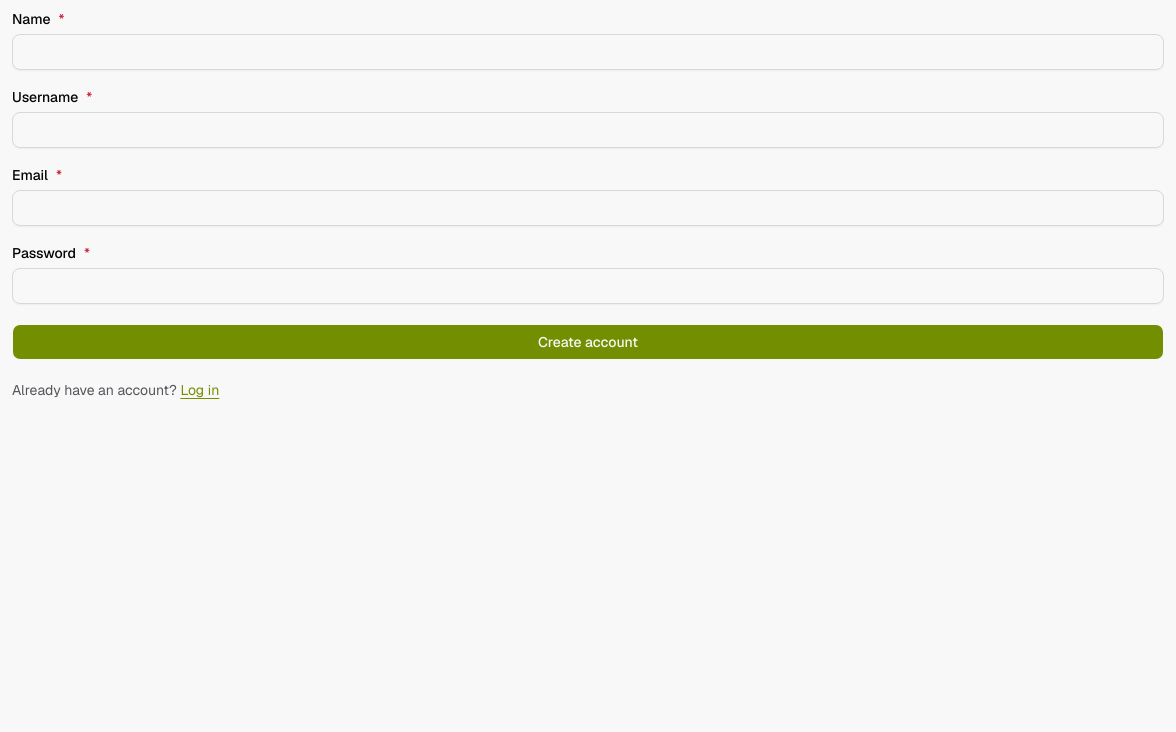
Scenario: SignUpForm › validates every field before submitting
The width and height of the screenshot is (1176, 732).
Click the button "Create account" at (588,342), box [12,324,1164,360]
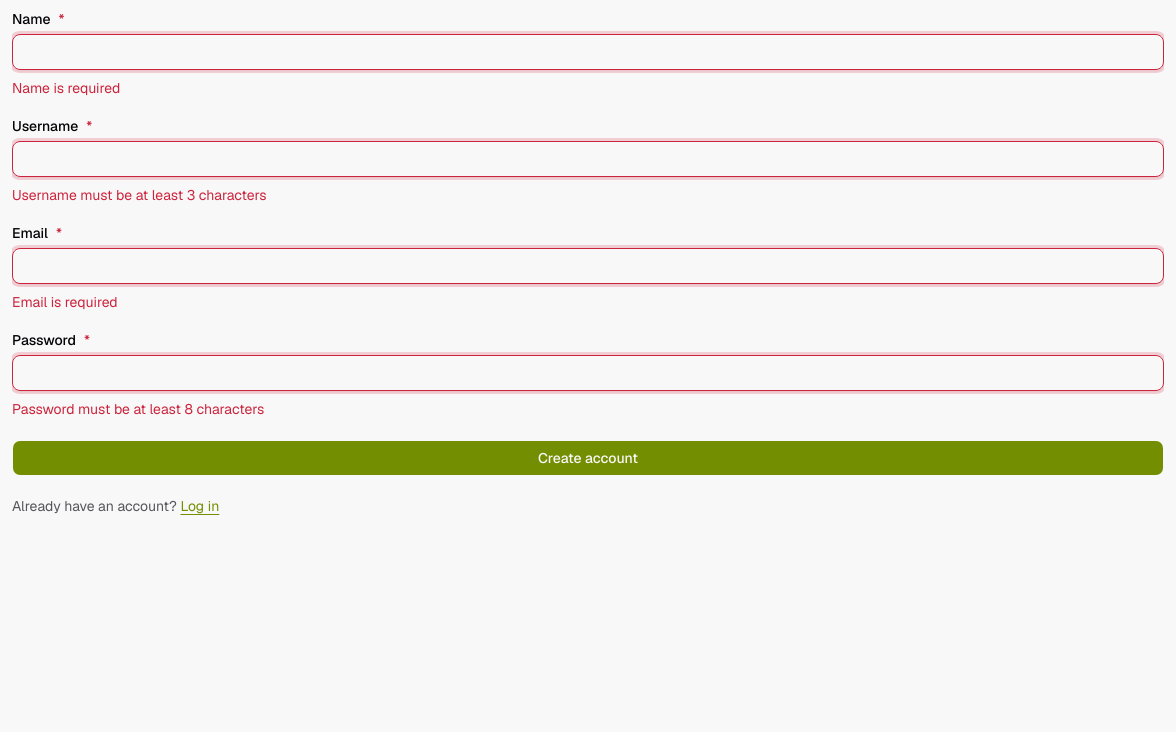
expect the text "Name is required" is shown: met, box [12,79,120,97]
expect the text "Username must be at least 3 characters" is shown: met, box [12,186,266,204]
expect the text "Email is required" is shown: met, box [12,293,118,311]
